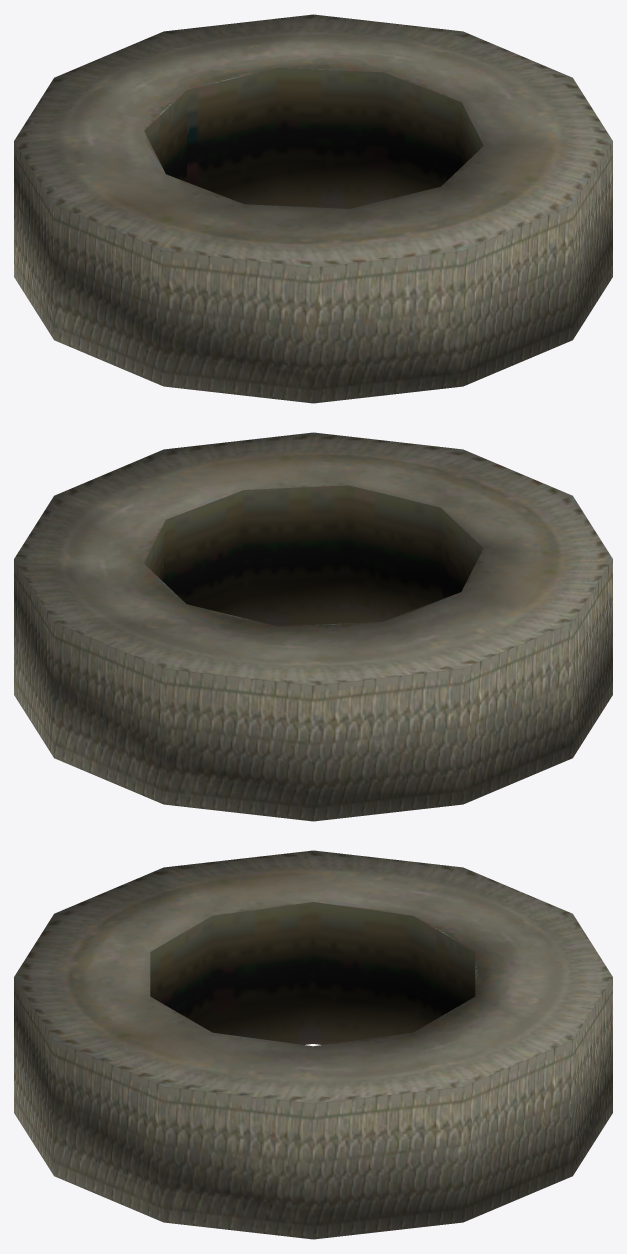
Rendered from Tire.FBX.
The picture shows the model from 3 angles, top to bottom: view 1: azimuth 30°, elevation 25°; view 2: azimuth 150°, elevation 25°; view 3: azimuth 270°, elevation 25°; orthographic projection.
Visible parts, largest first — view 1: Tire; view 2: Tire; view 3: Tire.
Part boxes in pixels (left/top/right/bottom): Tire: left=14, top=14, right=612, bottom=403; Tire: left=14, top=432, right=612, bottom=821; Tire: left=14, top=850, right=612, bottom=1239.
Size of the model in its own units: 96.99 by 25.35 by 96.99.
Materials: 1 (1 with a texture image).
